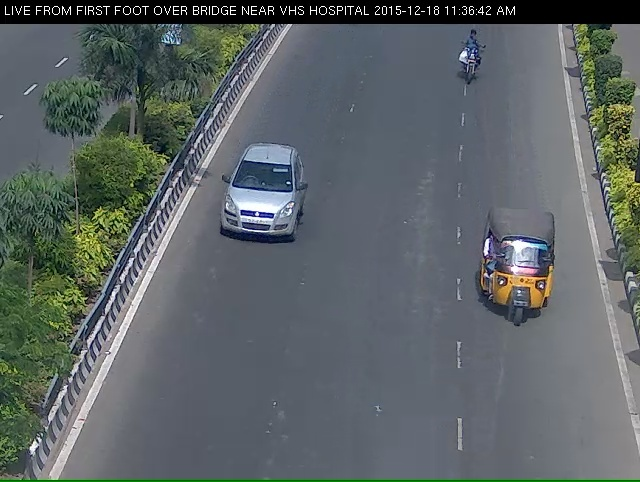Car: (211, 152, 314, 281), (483, 216, 577, 346)
Person: (452, 37, 506, 101)
